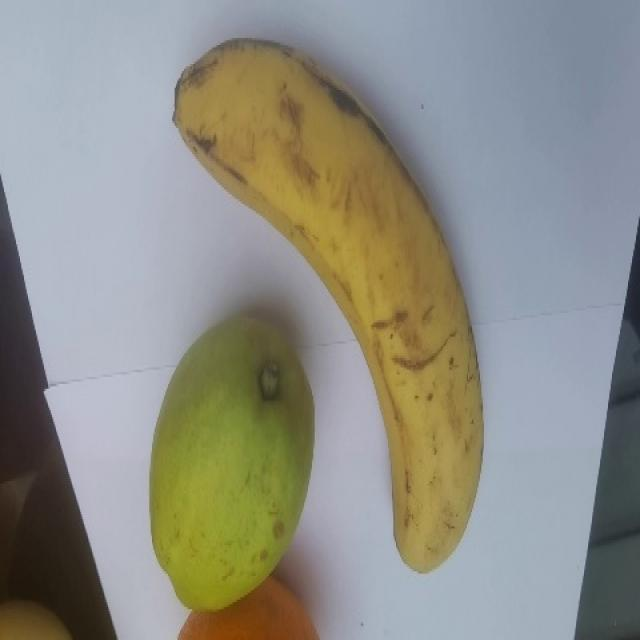Banana: (171, 36, 484, 573)
